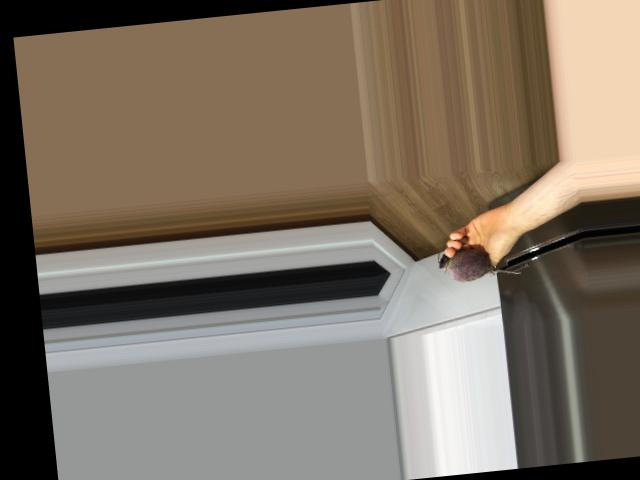beet: (436, 243, 520, 284)
